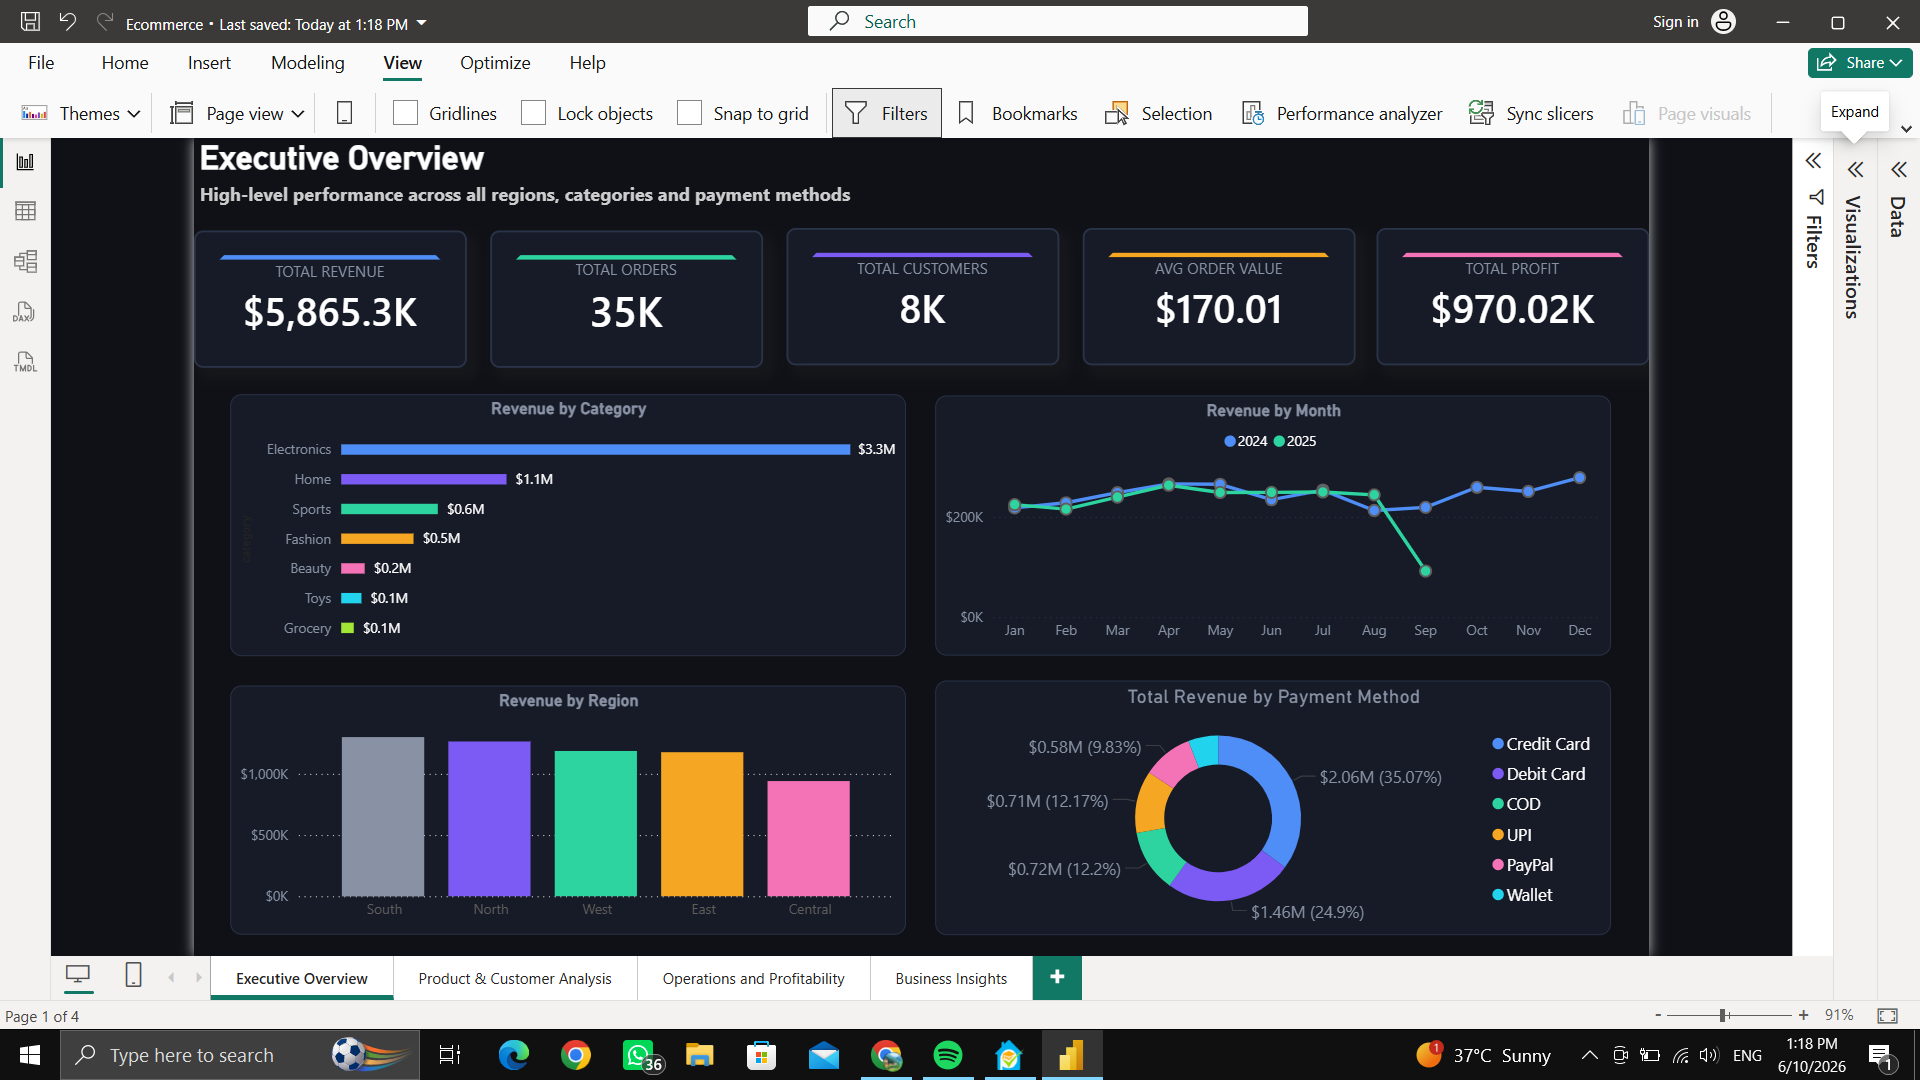

Layout of this report page (visuals, bound fields, positions):
{"tool":"powerbi","page":{"name":"Executive Overview","canvas":[1280,720],"ordinal":0},"visuals":[{"type":"textbox","title":"Executive Overview","box":[0,0,1280.3,67.2],"z":0},{"type":"cardVisual","fields":{"Data":["Measures (2).Total Orders"]},"box":[260.7,81,240.1,120.8],"z":1000},{"type":"cardVisual","fields":{"Data":["Measures (2).Total Customers"]},"box":[521.4,79.6,240.1,120.8],"z":2000},{"type":"cardVisual","fields":{"Data":["Measures (2).Avg Order Value"]},"box":[782.2,79.6,240.1,120.8],"z":3000},{"type":"cardVisual","fields":{"Data":["Measures (2).Total Profit"]},"box":[1040.1,79.6,240.1,120.8],"z":4000},{"type":"cardVisual","fields":{"Data":["Measures (2).Total Revenue"]},"box":[0,81,240.1,120.8],"z":5000},{"type":"lineChart","title":"Revenue by Month","fields":{"Y":["Measures (2).Total Revenue"],"Category":["Ecommerce.Month Name"],"Series":["Ecommerce.Year"]},"box":[651.8,226.4,594.2,229.2],"z":6000},{"type":"clusteredBarChart","title":"Revenue by Category","fields":{"Y":["Measures (2).Total Revenue"],"Category":["Ecommerce.category"]},"box":[31.6,225,594.2,230.5],"z":7000},{"type":"clusteredColumnChart","title":"Revenue by Region","fields":{"Y":["Measures (2).Total Revenue"],"Category":["Ecommerce.region"]},"box":[31.6,481.6,594.2,219.6],"z":8000},{"type":"donutChart","title":"Total Revenue by Payment Method","fields":{"Y":["Measures (2).Total Revenue"],"Category":["Ecommerce.payment_method"]},"box":[651.8,477.5,594.2,223.7],"z":9000}]}

Visuals, with their boxes on the page's 1280x720 design canvas (x1, y1, x2, y2). These are canvas units, not pixel positions in the 1920x1080 screenshot, which may show the page scaled, cropped or inside an application window:
"Executive Overview" textbox: crop(0, 0, 1280, 67)
cardVisual - Measures (2).Total Orders: crop(261, 81, 501, 202)
cardVisual - Measures (2).Total Customers: crop(521, 80, 762, 200)
cardVisual - Measures (2).Avg Order Value: crop(782, 80, 1022, 200)
cardVisual - Measures (2).Total Profit: crop(1040, 80, 1280, 200)
cardVisual - Measures (2).Total Revenue: crop(0, 81, 240, 202)
"Revenue by Month" lineChart: crop(652, 226, 1246, 456)
"Revenue by Category" clusteredBarChart: crop(32, 225, 626, 456)
"Revenue by Region" clusteredColumnChart: crop(32, 482, 626, 701)
"Total Revenue by Payment Method" donutChart: crop(652, 478, 1246, 701)
